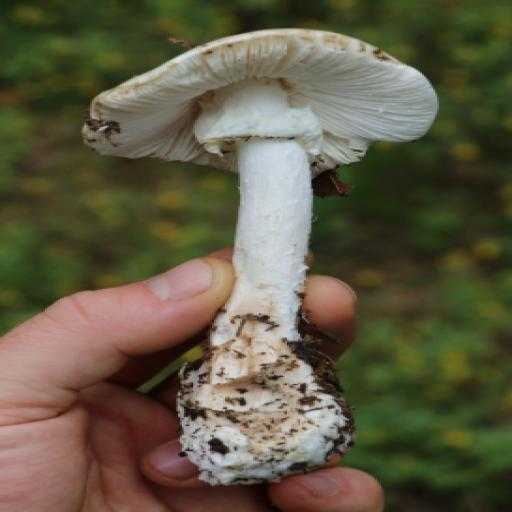mushroom: (81, 18, 440, 182), (218, 131, 319, 351), (194, 78, 298, 142)
